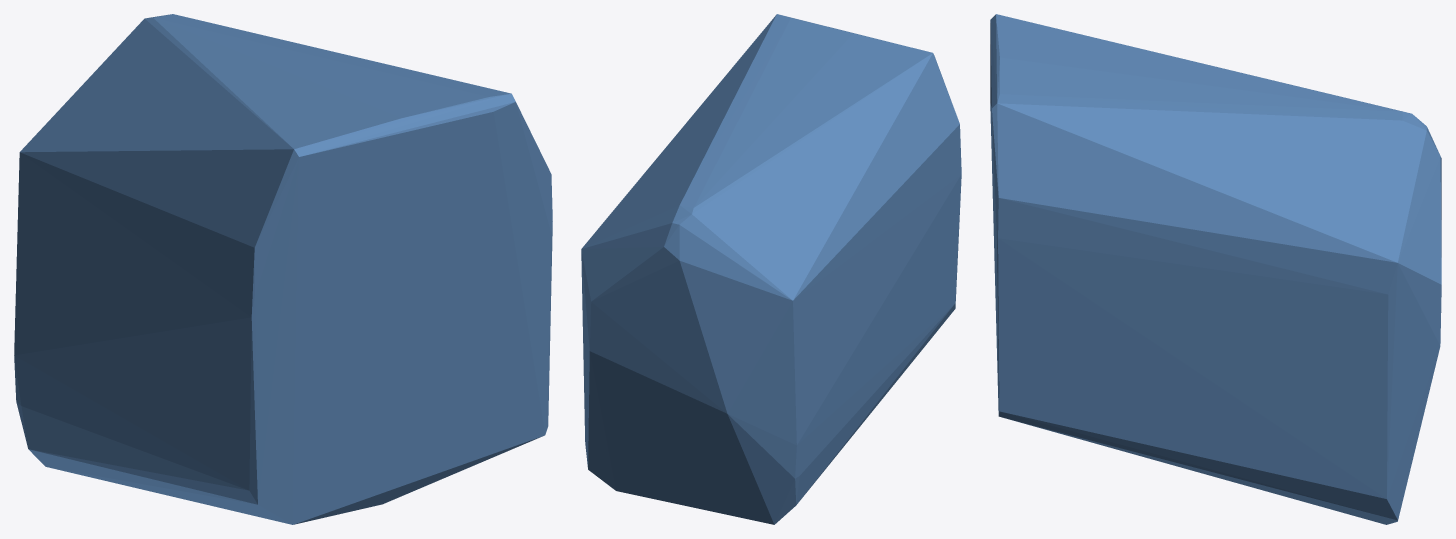
Rendered from container_recycle_blue_wheeled_a01.glb.
The picture shows the model from 3 angles, left to right: view 1: azimuth 30°, elevation 25°; view 2: azimuth 150°, elevation 25°; view 3: azimuth 270°, elevation 25°; orthographic projection. The views are drawn at different scales.
Visible parts, largest first — view 1: geometry_0; view 2: geometry_0; view 3: geometry_0.
Part boxes in pixels (<box>): geometry_0: <box>14,14,552,524</box>; geometry_0: <box>581,14,961,524</box>; geometry_0: <box>990,14,1441,524</box>.
Bounding box in the file's own units: 0.3094 × 0.48 × 0.4645.
